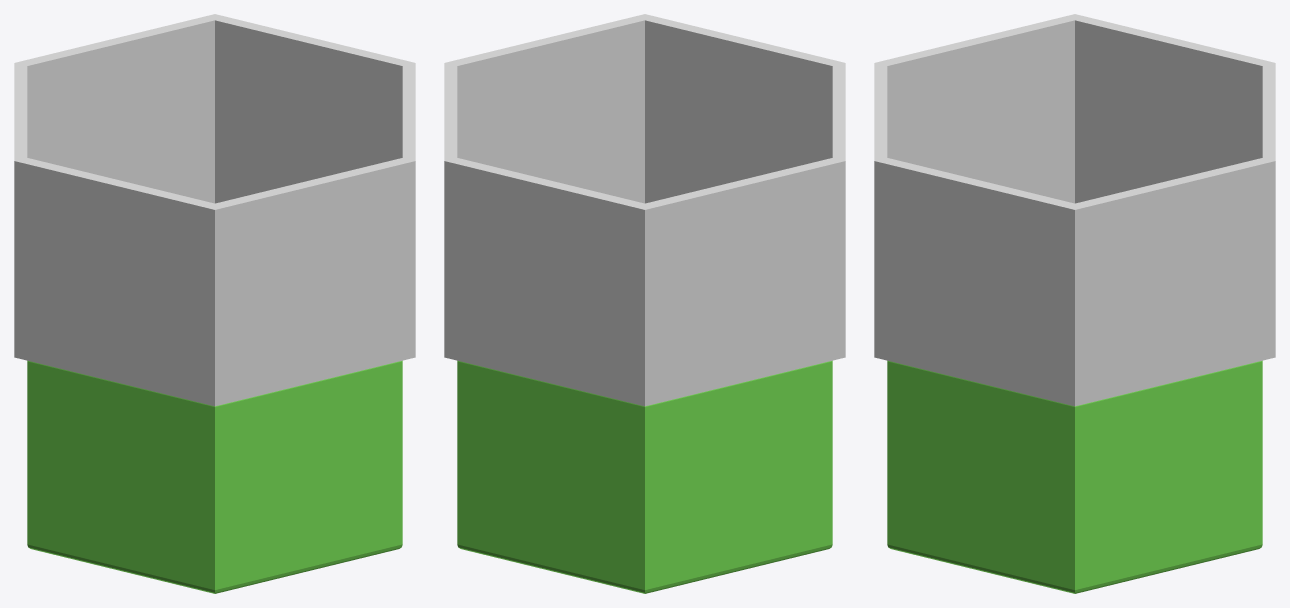
File: HexagonYumusak.fbx
3 renders of one model, left to right at view 1: azimuth 30°, elevation 25°; view 2: azimuth 150°, elevation 25°; view 3: azimuth 270°, elevation 25°, orthographic.
Visible parts, largest first — view 1: HaritaDeneme, Duvar1, Duvar2, Duvar4, Duvar5, Duvar3, Duvar6; view 2: HaritaDeneme, Duvar3, Duvar4, Duvar1, Duvar6, Duvar2, Duvar5; view 3: HaritaDeneme, Duvar5, Duvar6, Duvar2, Duvar3, Duvar1, Duvar4.
Part boxes in pixels (x1,y1,x2,y2): HaritaDeneme: [27, 360, 402, 593]; Duvar1: [215, 158, 415, 406]; Duvar2: [14, 158, 214, 406]; Duvar4: [15, 14, 214, 203]; Duvar5: [215, 14, 414, 203]; Duvar3: [14, 63, 27, 160]; Duvar6: [402, 63, 415, 160]; HaritaDeneme: [457, 360, 832, 593]; Duvar3: [645, 158, 845, 406]; Duvar4: [444, 158, 644, 406]; Duvar1: [645, 14, 844, 203]; Duvar6: [445, 14, 644, 203]; Duvar2: [832, 63, 845, 160]; Duvar5: [444, 63, 457, 160]; HaritaDeneme: [887, 360, 1262, 593]; Duvar5: [1075, 158, 1275, 406]; Duvar6: [874, 158, 1074, 406]; Duvar2: [875, 14, 1074, 203]; Duvar3: [1075, 14, 1274, 203]; Duvar1: [874, 63, 887, 160]; Duvar4: [1262, 63, 1275, 160].
Size of the model in its own units: 214 by 200 by 185.
